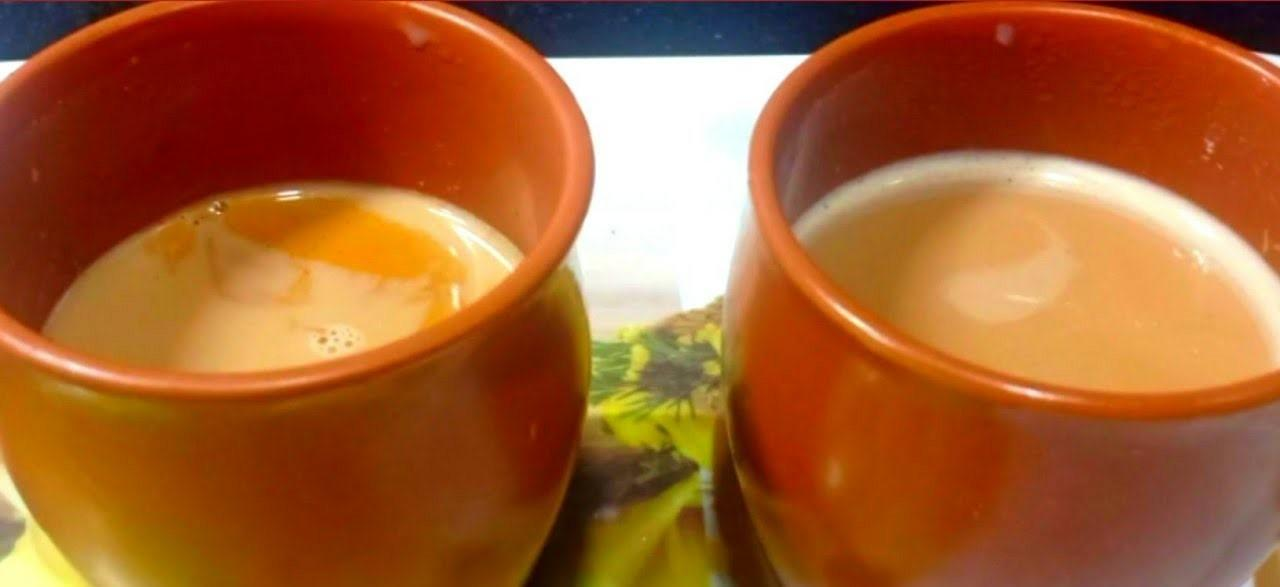Chai: (791, 149, 1280, 387), (36, 186, 523, 369)
